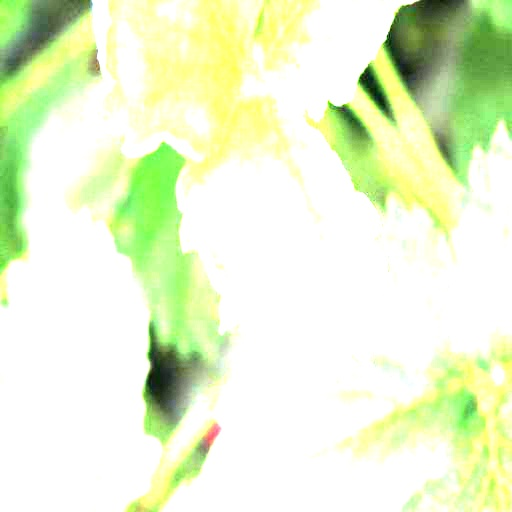Powdery Mildew Leaf: (175, 50, 389, 386), (89, 0, 264, 162), (253, 0, 419, 120)
